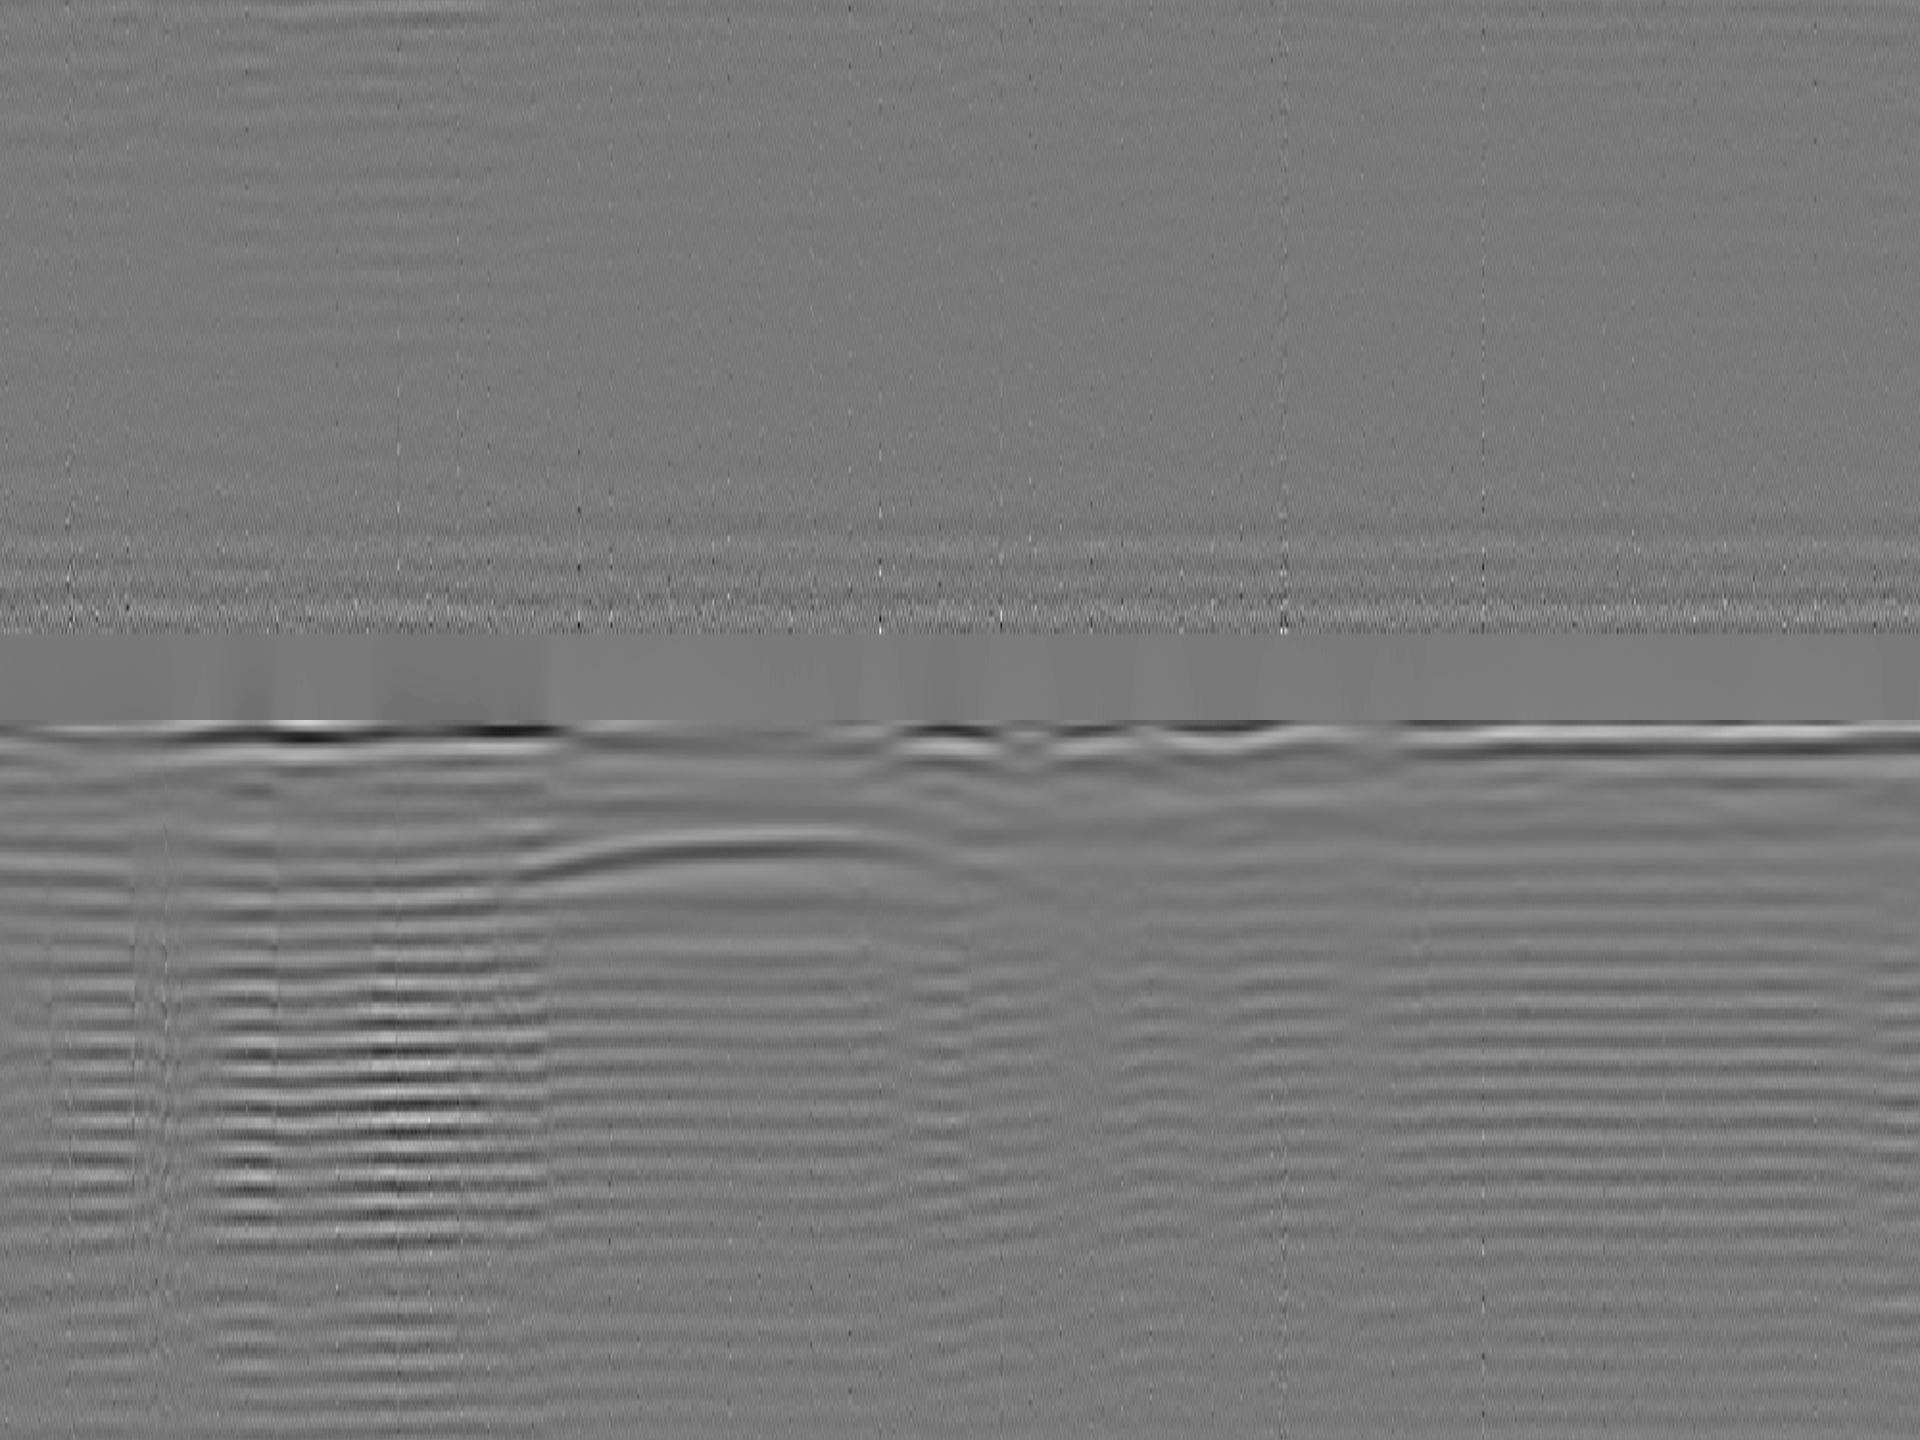Tunnel: (499, 826, 1067, 902)
